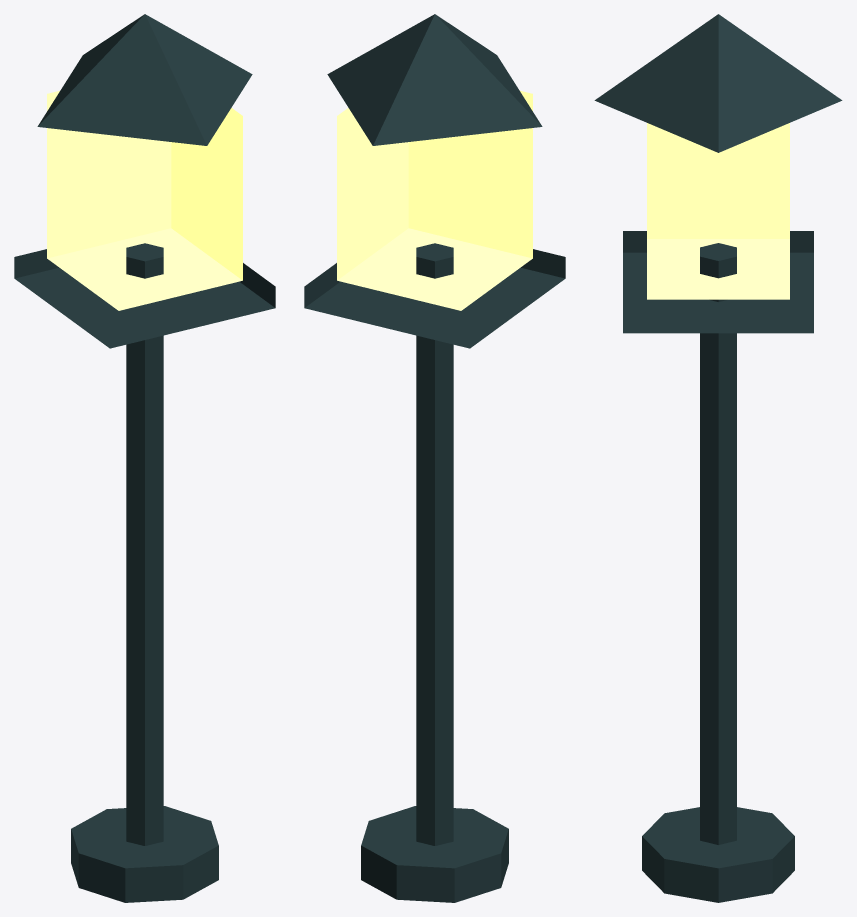
File: lantern_brass.glb
3 renders of one model, left to right at view 1: azimuth 30°, elevation 25°; view 2: azimuth 150°, elevation 25°; view 3: azimuth 270°, elevation 25°, orthographic.
Visible parts, largest first — view 1: lantern_brass; view 2: lantern_brass; view 3: lantern_brass.
Part boxes in pixels (x1,y1,x2,y2): lantern_brass: (14, 14, 275, 902); lantern_brass: (304, 14, 565, 902); lantern_brass: (594, 14, 842, 902).
Size of the model in its own units: 0.52 by 1.98 by 0.52.
